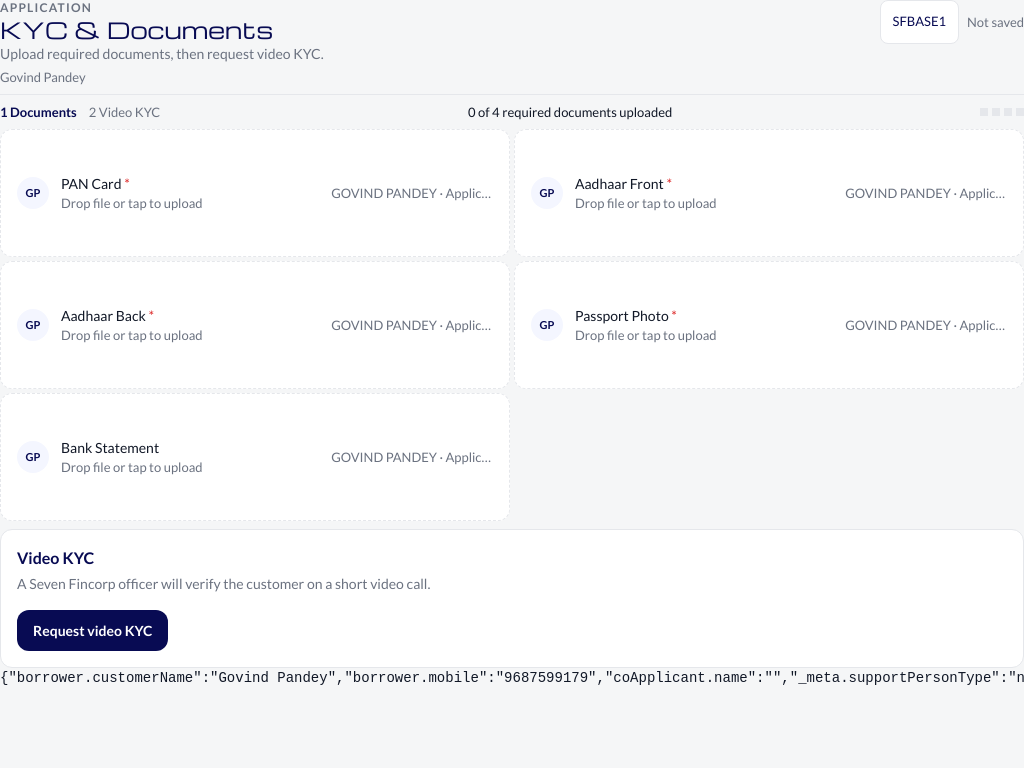
Test: upload row › opens Take photo and Choose file on a coarse pointer
Click the button with test id "kyc-doc-pan_card" at point(33, 193), box [0,129,510,257]
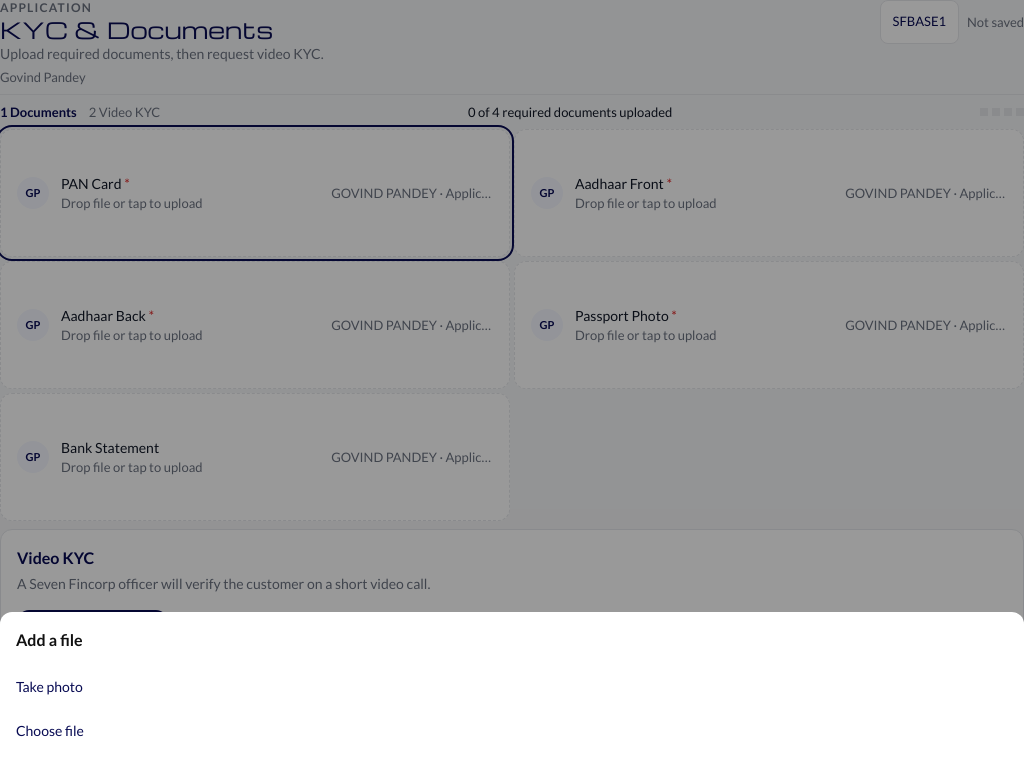
Result: the button "Take photo" is shown at [16,664,1008,708]
Result: the button "Choose file" is shown at [16,708,1008,752]
Result: the dialog is shown at [0,612,1023,767]
